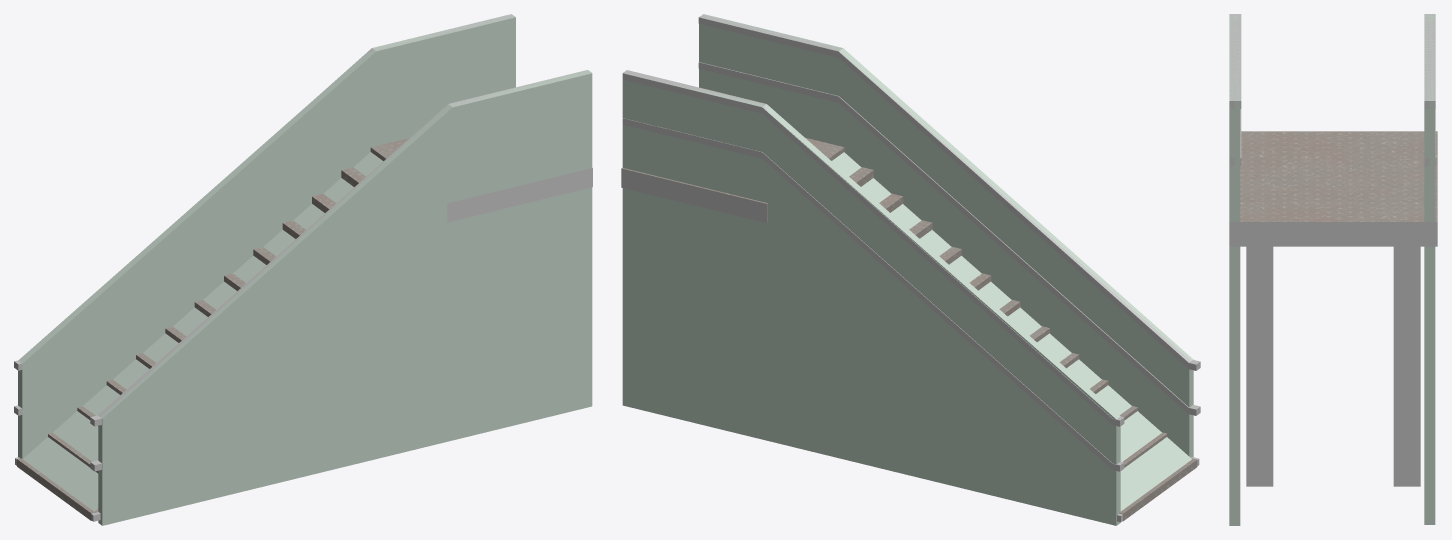
The model's file is GBZH35_Helipad_Stairs02.gltf.
3 views of the same model, side by side, from view 1: azimuth 30°, elevation 25°; view 2: azimuth 150°, elevation 25°; view 3: azimuth 270°, elevation 25° (orthographic). The views are drawn at different scales.
Visible parts, largest first — view 1: Stairs02; view 2: Stairs02; view 3: Stairs02.
Part boxes in pixels (x1,y1,x2,y2): Stairs02: [14, 14, 592, 525]; Stairs02: [621, 14, 1200, 525]; Stairs02: [1229, 14, 1437, 525].
Bounding box in the file's own units: 5.43 × 3.47 × 1.54.
